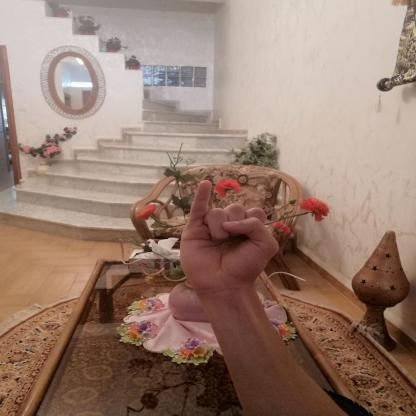MEEM: (169, 173, 287, 300)
